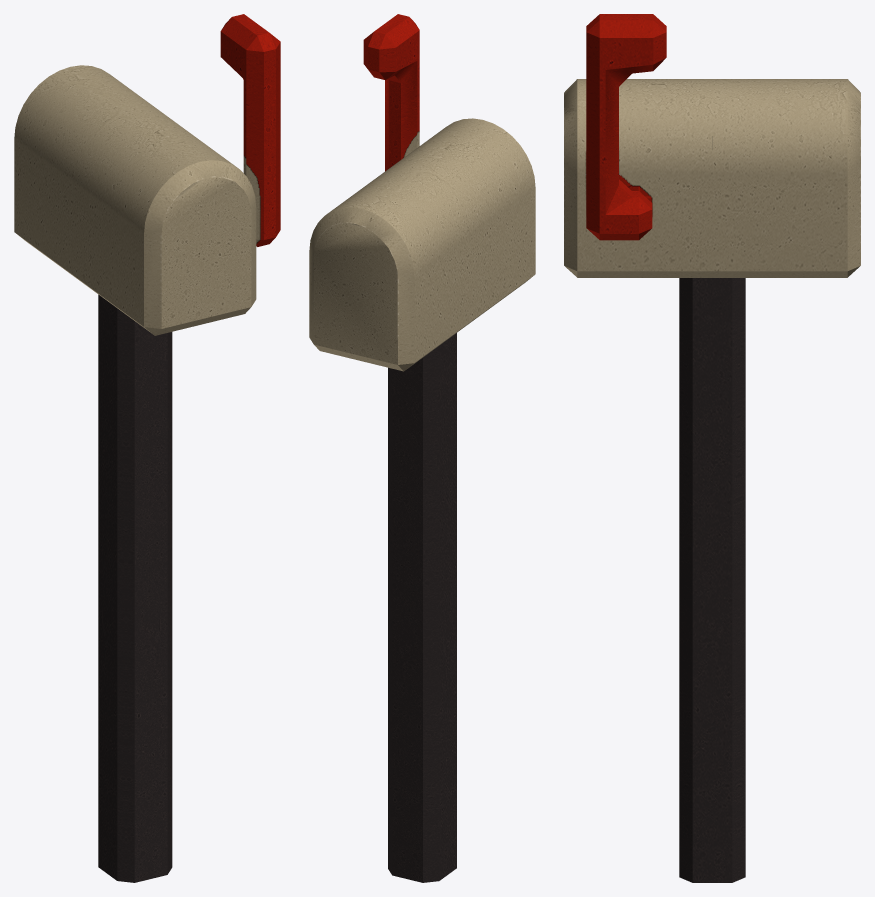
Rendered from mailbox_LOD0.fbx.
3 views of the same model, side by side, from view 1: azimuth 30°, elevation 25°; view 2: azimuth 150°, elevation 25°; view 3: azimuth 270°, elevation 25° (orthographic). The views are drawn at different scales.
Visible parts, largest first — view 1: mailbox_LOD0; view 2: mailbox_LOD0; view 3: mailbox_LOD0.
Boxes of the visible parts, x1,y1,x2,y2 form: mailbox_LOD0: [14, 14, 280, 882]; mailbox_LOD0: [309, 14, 535, 882]; mailbox_LOD0: [564, 14, 860, 882].
Size of the model in its own units: 26.59 by 147 by 44.52.
